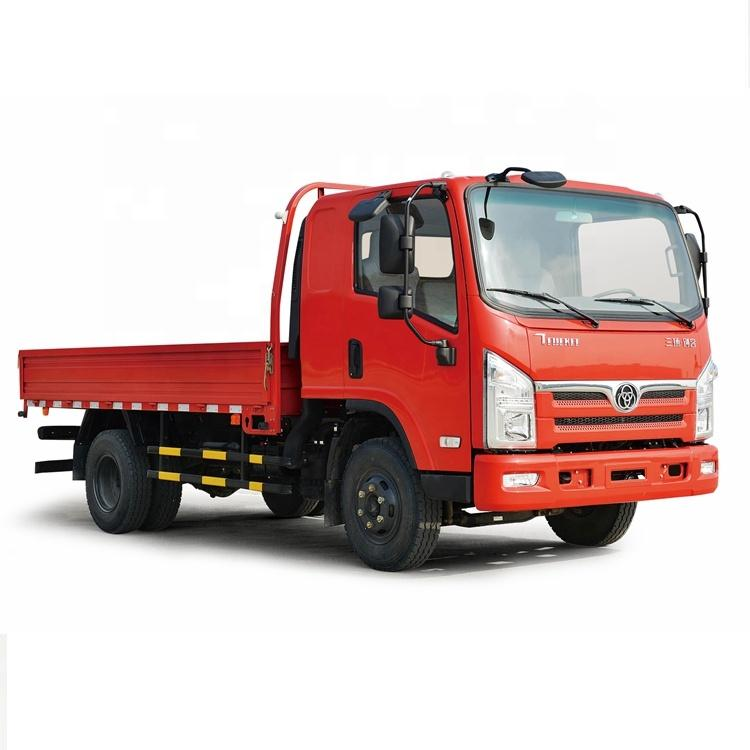truck: (17, 166, 719, 572)
